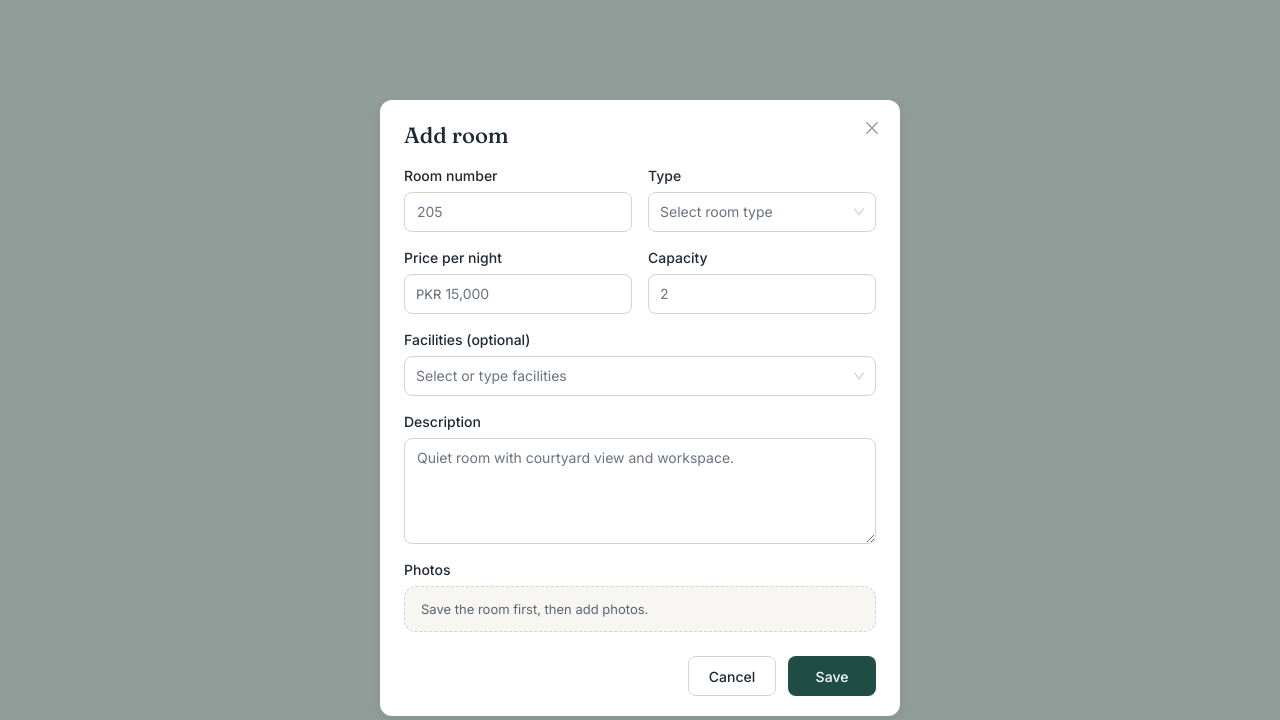
RoomFormModal › validates required fields, PKR 1,000 min price, and 1 to 8 capacity without rendering active Switch on create
expect the dialog shows "Add room": met, box [404,121,509,149]
expect the text "Save the room first, then add photos." is shown: met, box [404,586,876,632]
Verify all 7 facility suggestions exist in the tags Select
Press the mouse on the dropdown labelled "Facilities (optional)": (418, 376) [416,360,420,392]
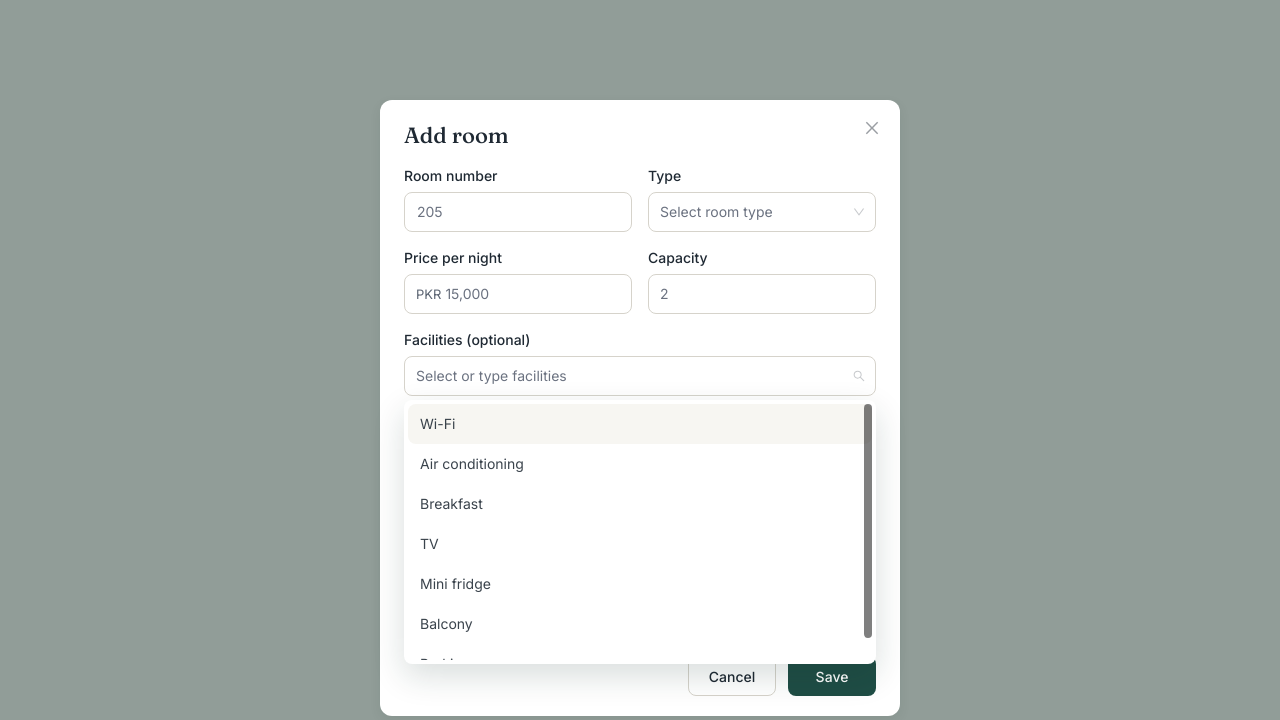
expect the text "Wi-Fi" is shown: met, box [420,415,455,432]
expect the text "Air conditioning" is shown: met, box [420,455,524,472]
expect the text "Breakfast" is shown: met, box [420,495,483,512]
Click the button "Save": (832, 676) [788,656,876,696]
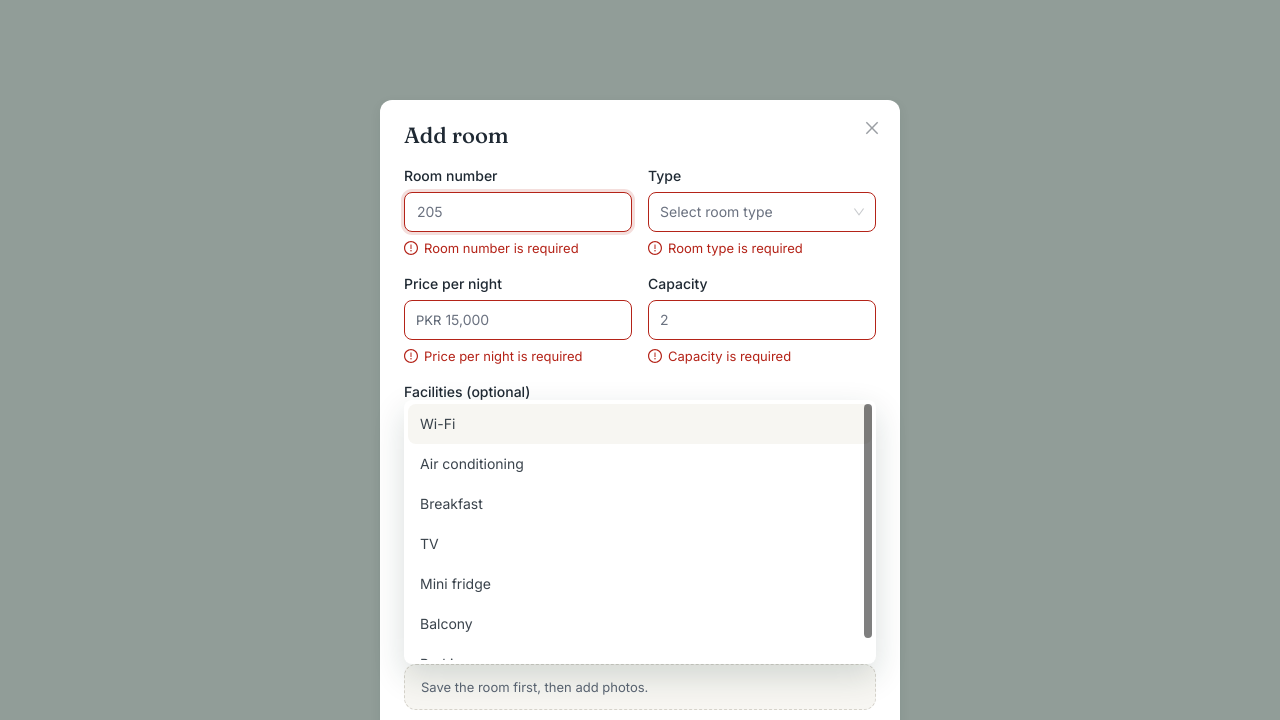
expect the text "Room number is required" is shown: met, box [424,238,579,258]
expect the text "Room type is required" is shown: met, box [668,238,803,258]
expect the text "Price per night is required" is shown: met, box [424,346,583,366]
In the number field labelled "Price per night": (538, 320) [445,301,631,339], type "500"
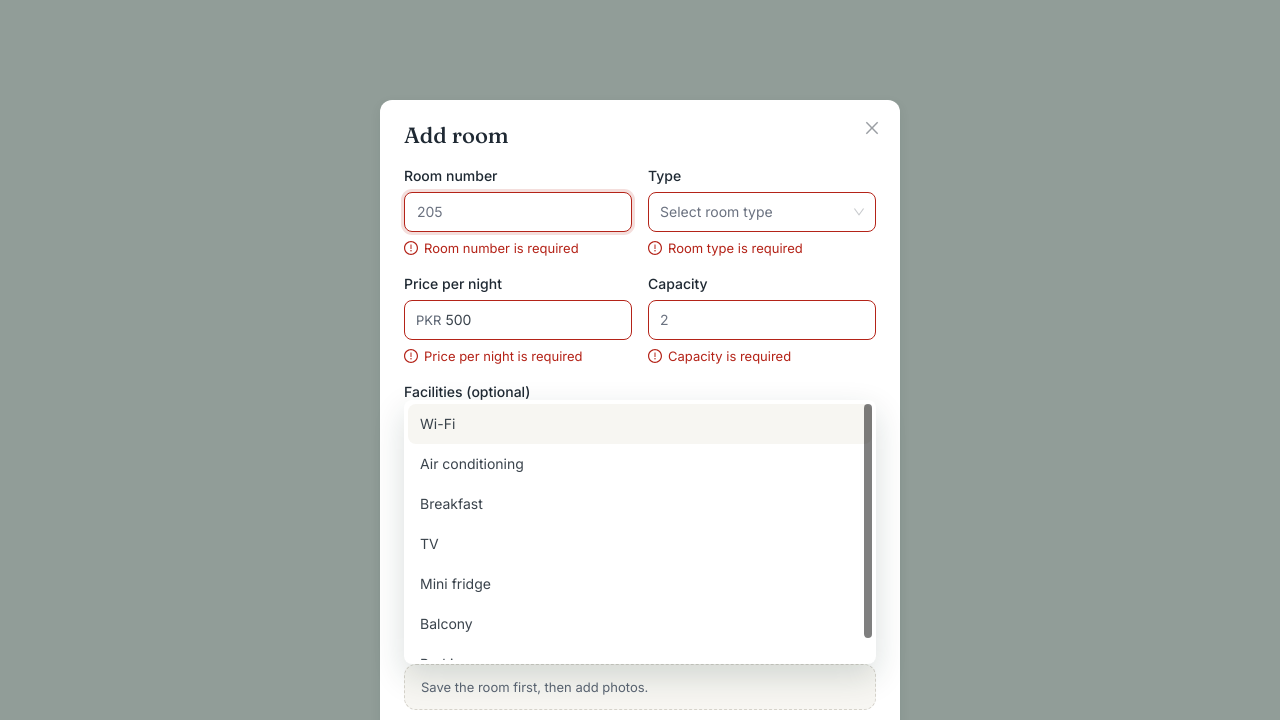
In the number field labelled "Capacity": (762, 320) [649,301,875,339], type "9"
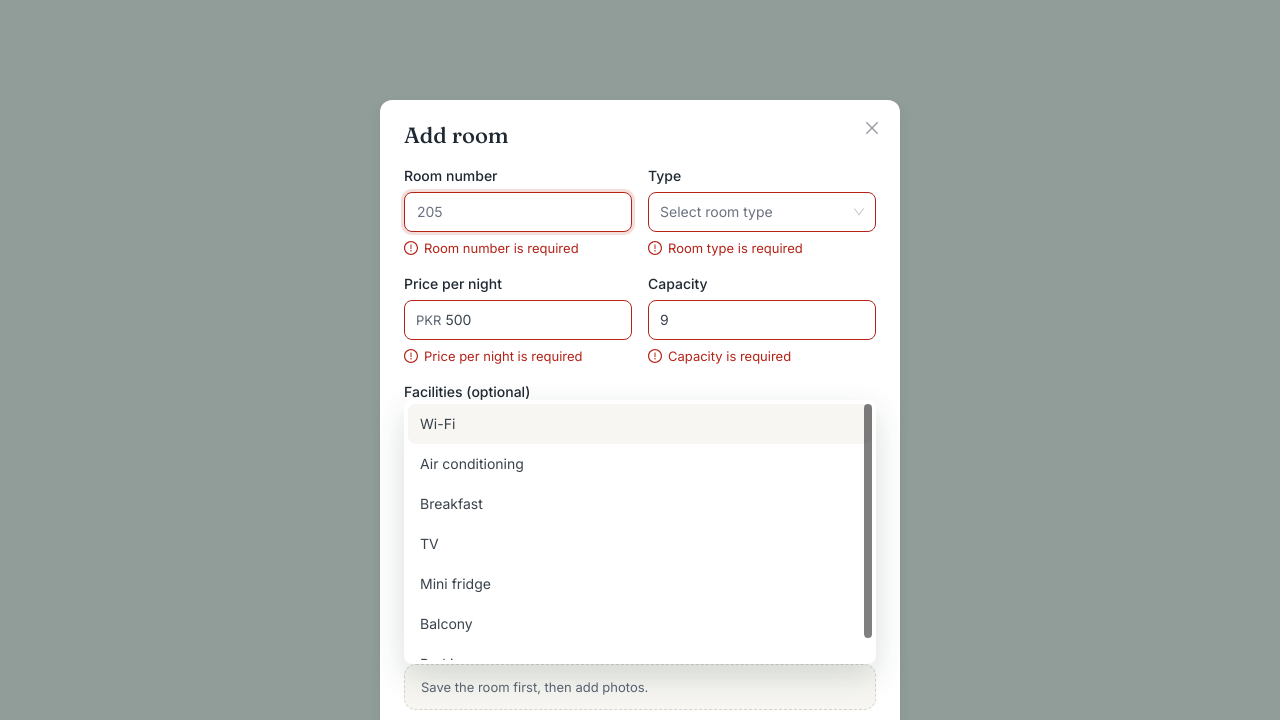
Leave the number field labelled "Capacity", box [649,301,875,339]
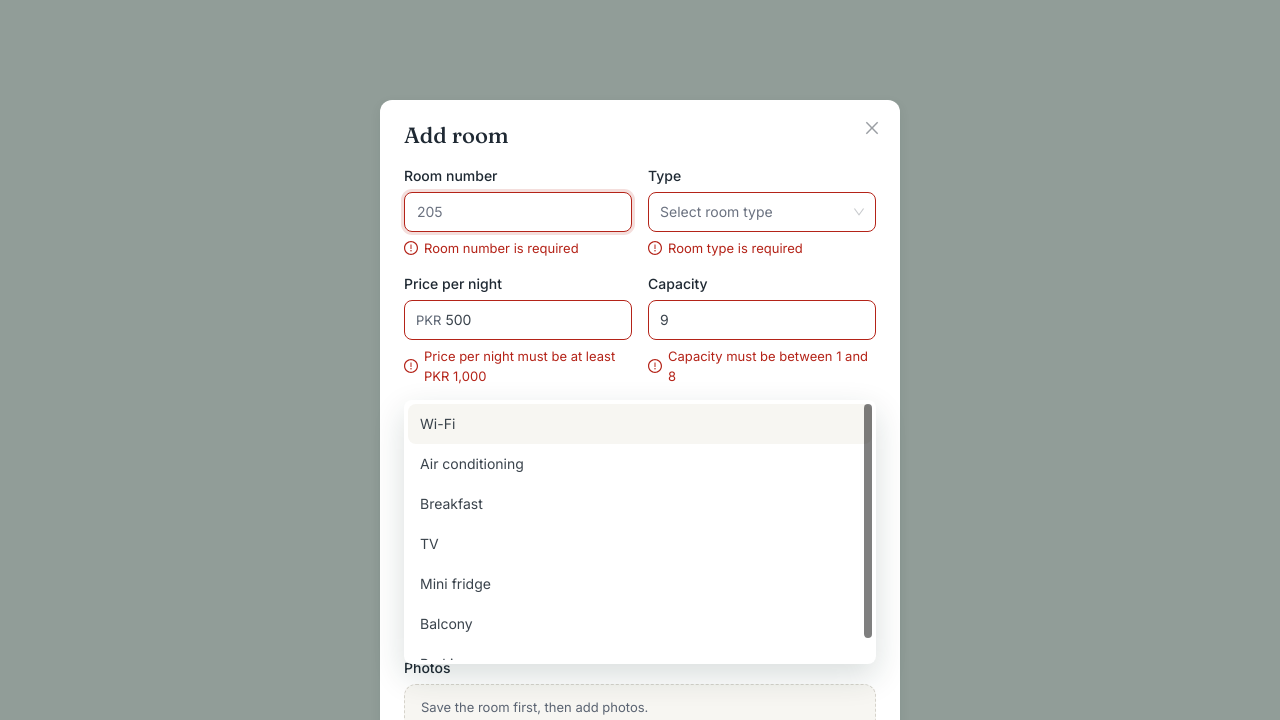
expect the text "Price per night must be at least PKR 1,000" is shown: met, box [424,346,632,386]
expect the text "Capacity must be between 1 and 8" is shown: met, box [668,346,876,386]
